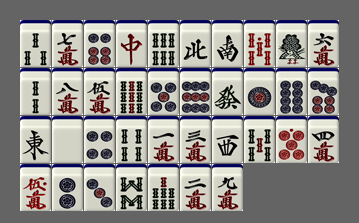0m: (20, 164, 51, 211)
0p: (276, 116, 307, 163)
0s: (244, 20, 275, 67)
1m: (148, 116, 179, 163)
1p: (244, 68, 275, 115)
1s: (276, 20, 307, 67)
1z: (20, 116, 51, 163)
2m: (180, 164, 211, 211)
2p: (52, 164, 83, 211)
2s: (20, 68, 51, 115)
2z: (212, 20, 243, 67)
3m: (180, 116, 211, 163)
3p: (84, 164, 115, 211)
3s: (20, 20, 51, 67)
3z: (212, 116, 243, 163)
4m: (308, 116, 339, 163)
4p: (84, 116, 115, 163)
4s: (116, 116, 147, 163)
4z: (180, 20, 211, 67)
5m: (84, 68, 115, 115)
5p: (148, 68, 179, 115)
5s: (244, 116, 275, 163)
5z: (52, 116, 83, 163)
6m: (308, 20, 339, 67)
6p: (84, 20, 115, 67)
6s: (148, 20, 179, 67)
6z: (212, 68, 243, 115)
7m: (52, 20, 83, 67)
7p: (308, 68, 339, 115)
7s: (148, 164, 179, 211)
7z: (116, 20, 147, 67)
8m: (52, 68, 83, 115)
8p: (276, 68, 307, 115)
8s: (116, 164, 147, 211)
9m: (212, 164, 243, 211)
9p: (180, 68, 211, 115)
9s: (116, 68, 147, 115)
